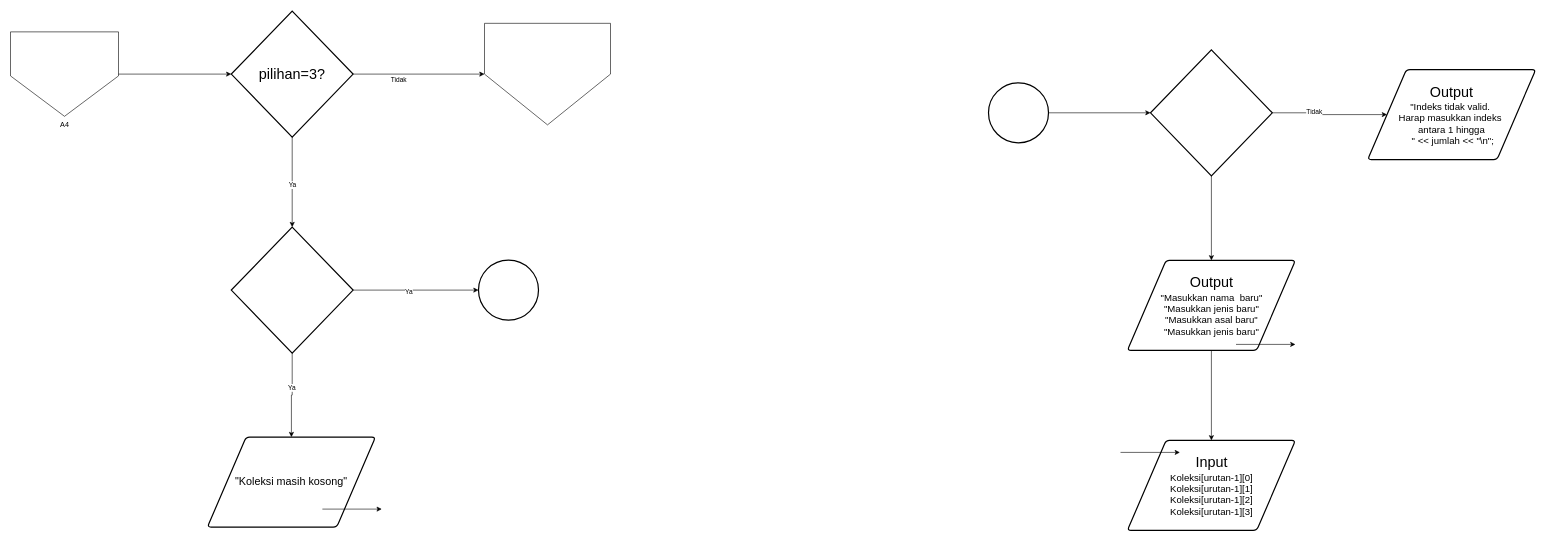
Some shapes in this 1547 by 541 pixel diagram are drawn without their labels. Each missing label, with the box of its shape:
A5: (484, 23, 610, 125)
Jumlah==0: (230, 226, 353, 353)
urutan>=1 && urutan>=jumlah: (1150, 49, 1273, 176)
